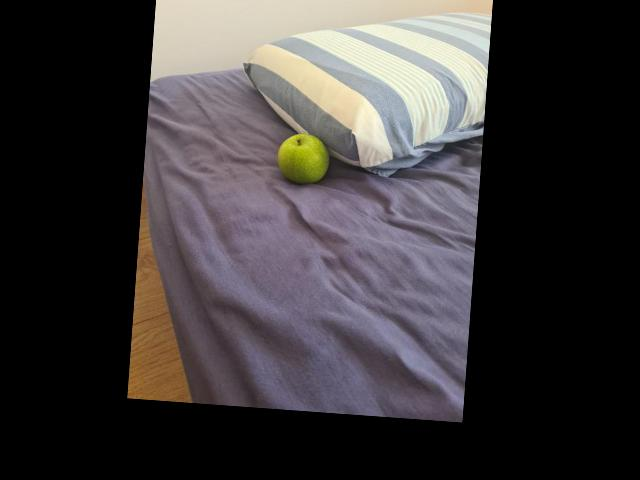apple: (279, 131, 329, 184)
